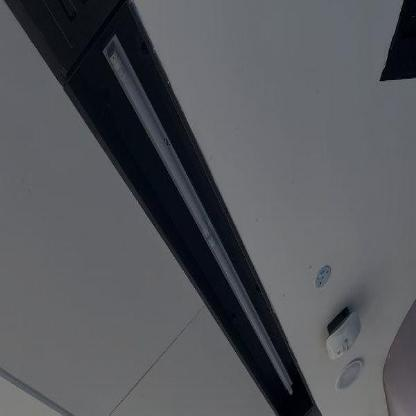light_off: (97, 30, 298, 401)
